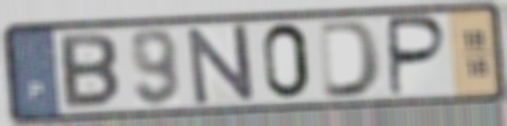0: (259, 21, 314, 102)
9: (127, 26, 183, 110)
B: (57, 31, 122, 112)
D: (316, 18, 386, 101)
N: (184, 21, 258, 108)
P: (387, 14, 450, 100)
